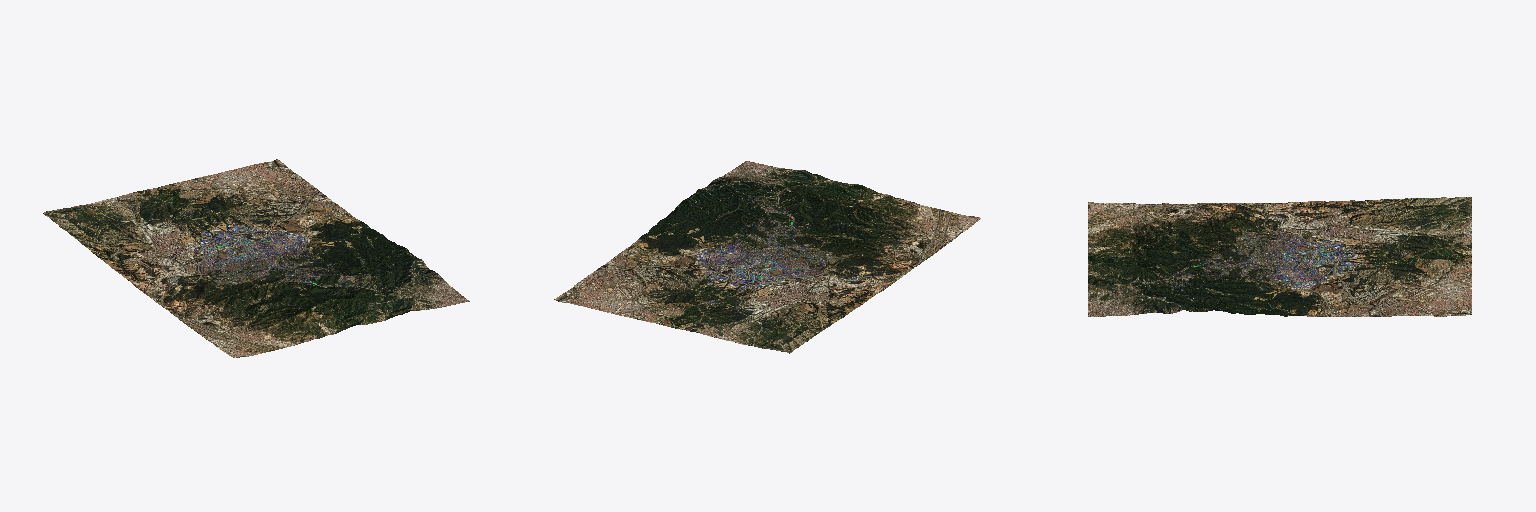
3 renders of one model, left to right at view 1: azimuth 30°, elevation 25°; view 2: azimuth 150°, elevation 25°; view 3: azimuth 270°, elevation 25°, orthographic.
Parts seen in each view (by area): view 1: humitat_MetElipResi; view 2: humitat_MetElipResi; view 3: humitat_MetElipResi.
Part boxes in pixels (bbox=[...]): humitat_MetElipResi: bbox=[43, 159, 469, 357]; humitat_MetElipResi: bbox=[554, 161, 980, 353]; humitat_MetElipResi: bbox=[1088, 197, 1471, 316].
Bounding box in the file's own units: 13.47 × 0.5857 × 19.06.
1 materials, 1 textured.